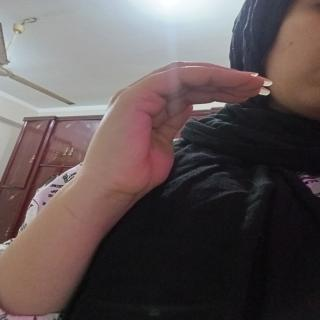HAA: (76, 55, 278, 210)
